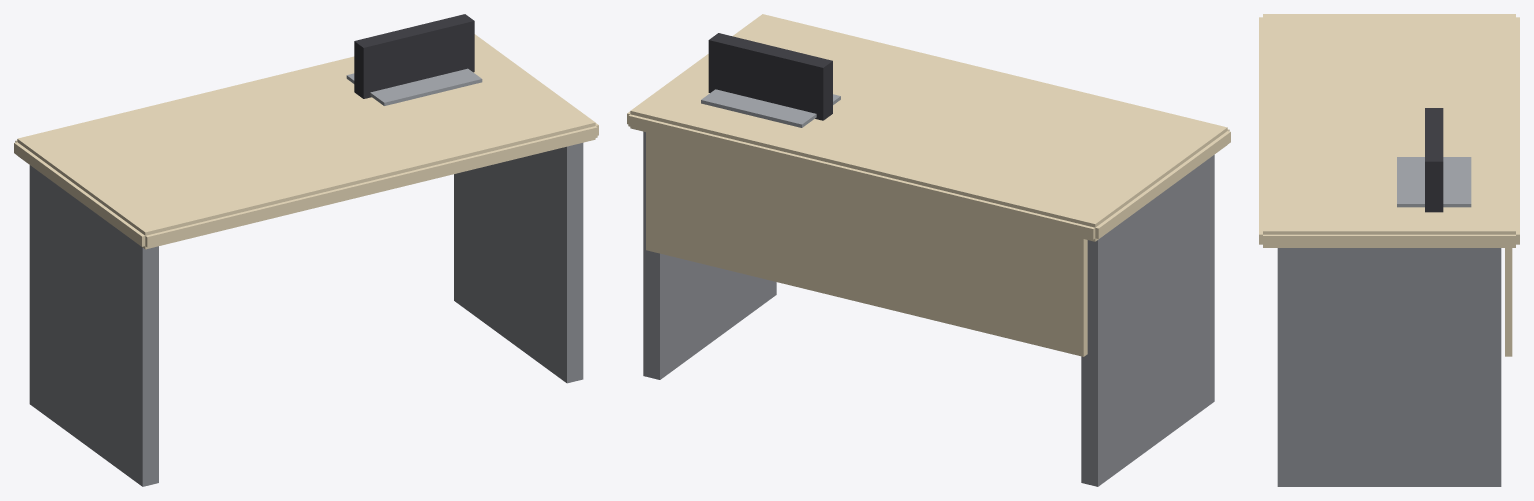
Rendered from desk.glb.
3 renders of one model, left to right at view 1: azimuth 30°, elevation 25°; view 2: azimuth 150°, elevation 25°; view 3: azimuth 270°, elevation 25°, orthographic. The views are drawn at different scales.
Visible parts, largest first — view 1: desk; view 2: desk; view 3: desk.
Boxes of the visible parts, left/top/right/bottom form: desk: left=14, top=14, right=598, bottom=486; desk: left=627, top=14, right=1230, bottom=486; desk: left=1259, top=14, right=1519, bottom=486.
Bounding box in the file's own units: 1.4 × 0.915 × 0.7.
